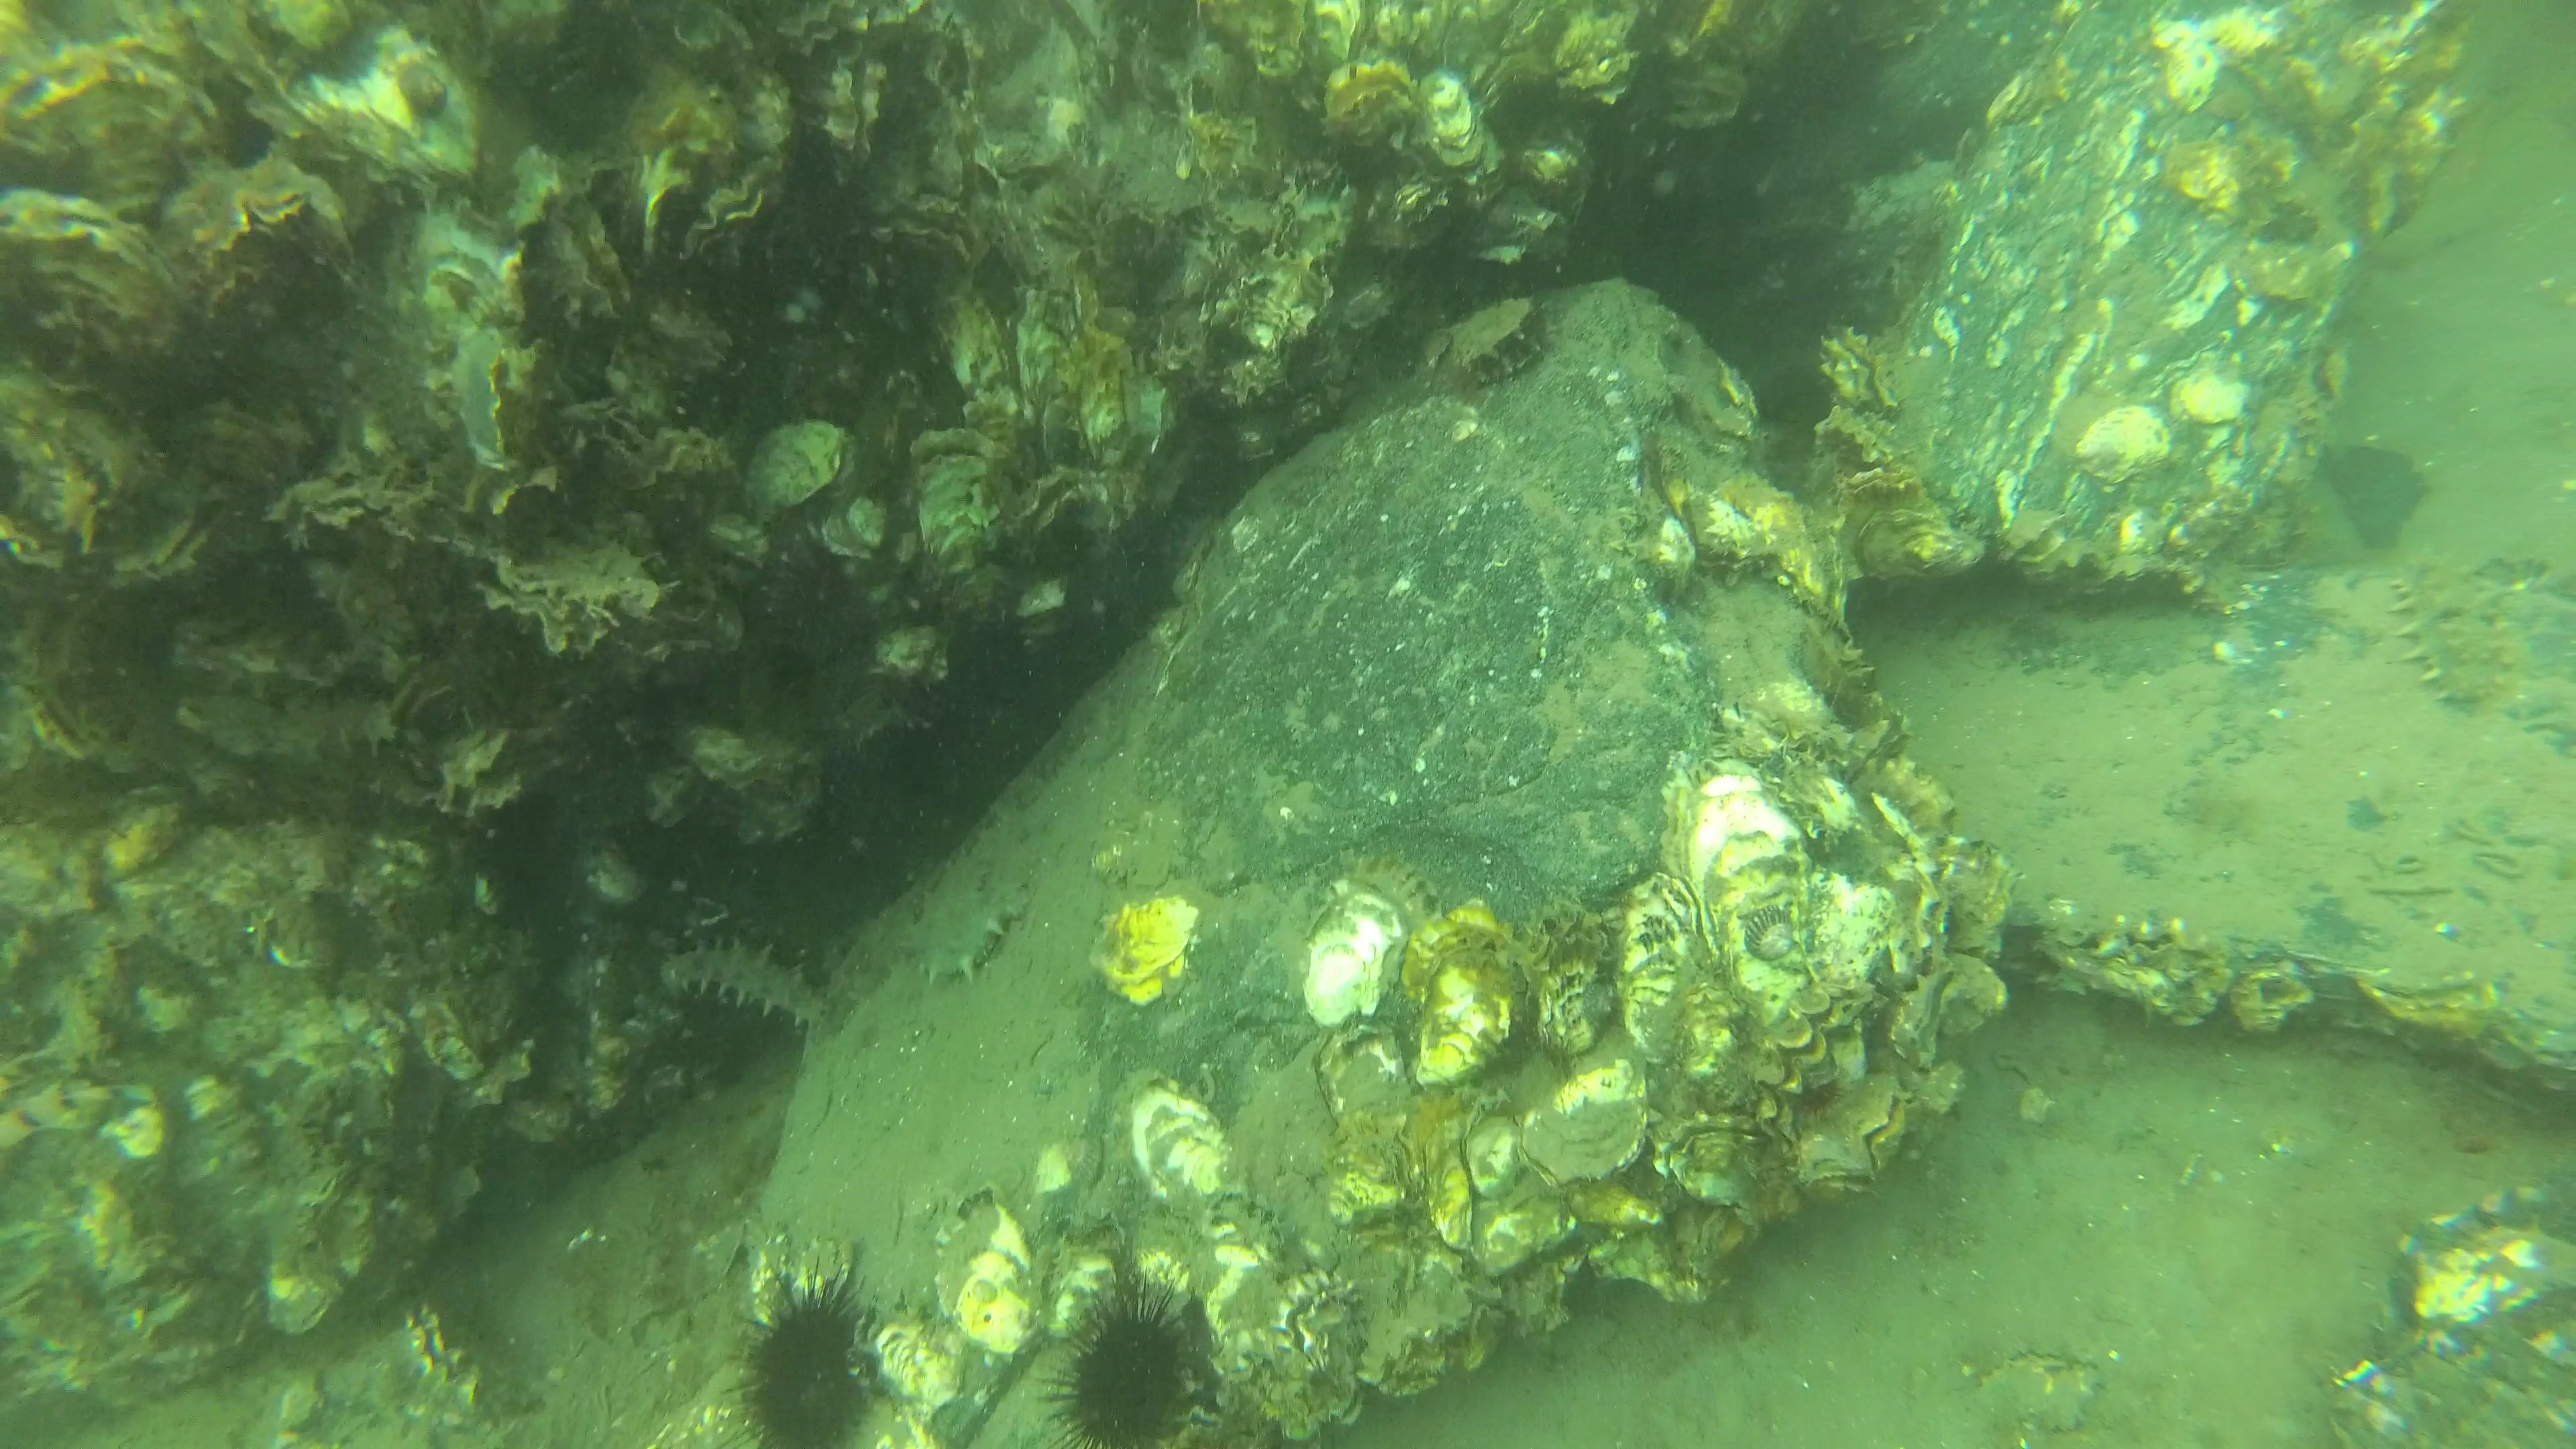echinus: (717, 1258, 886, 1449), (1047, 1277, 1198, 1449)
holothurian: (2385, 540, 2518, 711), (651, 925, 835, 1042), (899, 878, 1035, 985)
